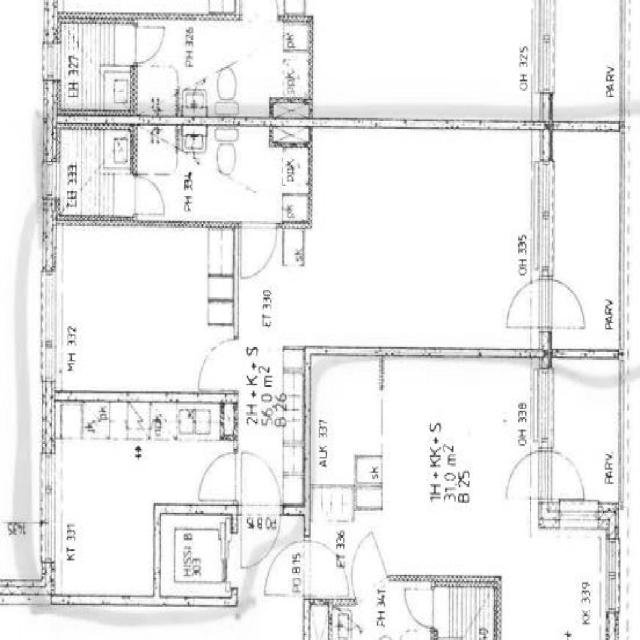door: (378, 356, 522, 573), (239, 448, 282, 519), (195, 448, 239, 509), (263, 539, 302, 602), (238, 221, 279, 280), (350, 524, 388, 584), (546, 280, 588, 334), (196, 340, 236, 396), (502, 279, 542, 333), (548, 449, 586, 504), (305, 535, 343, 590), (501, 449, 536, 502), (132, 21, 167, 68), (132, 172, 167, 218), (404, 585, 436, 632)
window: (530, 150, 559, 279), (530, 0, 558, 100), (528, 360, 556, 454), (38, 447, 61, 559), (613, 0, 635, 101), (39, 264, 61, 356), (549, 343, 621, 371), (602, 532, 621, 621), (0, 578, 32, 610), (43, 39, 61, 87), (44, 156, 61, 202), (38, 234, 56, 275)
zone: (307, 128, 534, 348), (50, 230, 222, 399), (547, 120, 625, 360), (137, 124, 309, 226), (549, 359, 622, 504), (307, 352, 383, 491), (548, 0, 623, 126), (54, 123, 134, 223), (155, 512, 232, 603), (54, 23, 130, 115), (432, 583, 497, 640), (527, 361, 555, 455), (280, 18, 312, 54)
